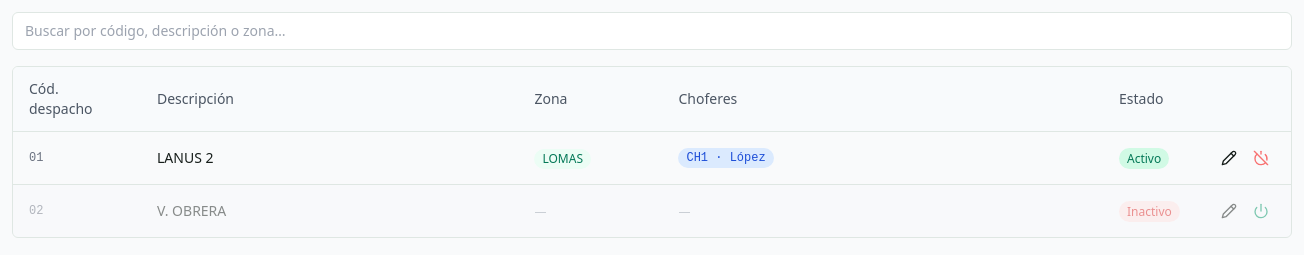
Test: RutasTab › filtra por nombre de zona
This screenshot has width=1304, height=255.
Type "lomas" into the field with placeholder "Buscar por código, descripción o zona…" at (652, 31), box [12,12,1292,50]
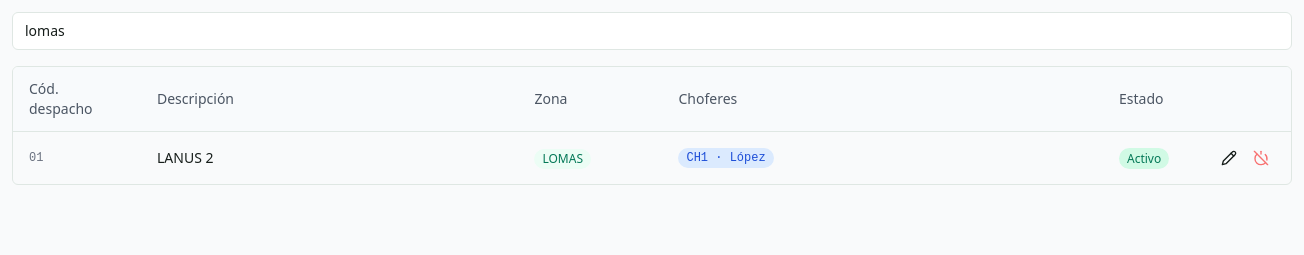
Expected: the text "LANUS 2" is shown, [141,132,518,184]
Now the text "V. OBRERA" is gone
